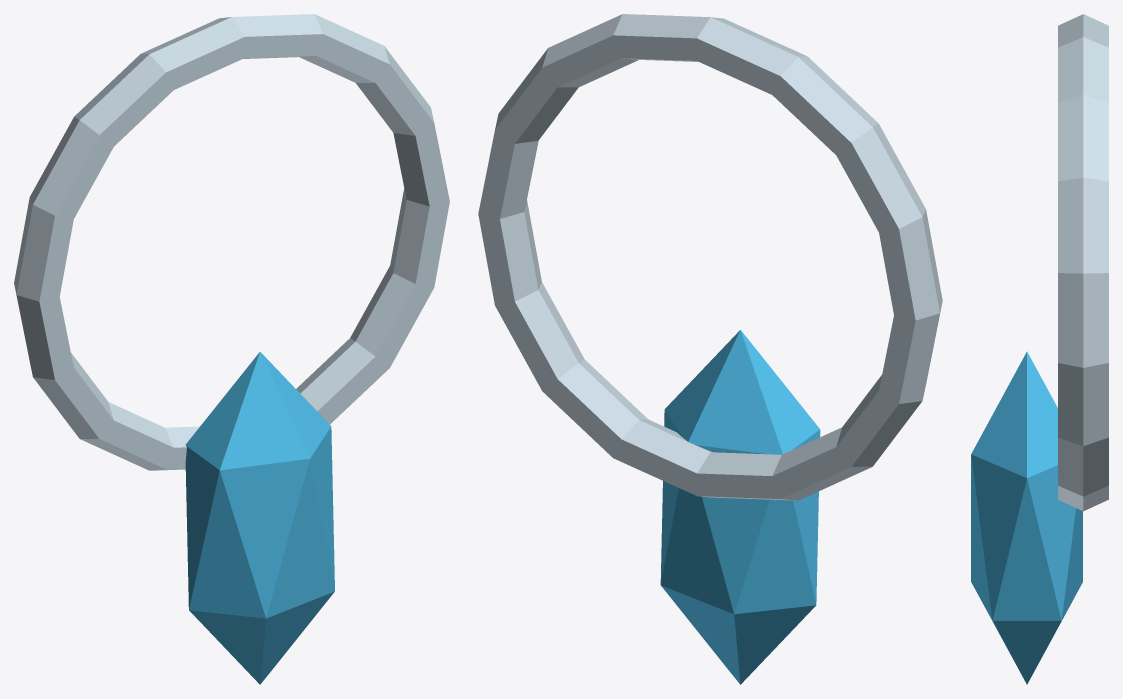
The model's file is tide-pendant-1.glb.
3 renders of one model, left to right at view 1: azimuth 30°, elevation 25°; view 2: azimuth 150°, elevation 25°; view 3: azimuth 270°, elevation 25°, orthographic. The views are drawn at different scales.
Parts seen in each view (by area): view 1: Torus.006, Icosphere; view 2: Torus.006, Icosphere; view 3: Torus.006, Icosphere.
Part boxes in pixels (x1,y1,x2,y2): Torus.006: [14, 14, 449, 470]; Icosphere: [185, 352, 334, 684]; Torus.006: [478, 14, 942, 500]; Icosphere: [660, 330, 820, 684]; Torus.006: [1058, 14, 1108, 511]; Icosphere: [971, 351, 1082, 684].
Size of the model in its own units: 0.53 by 0.761 by 0.1466.
